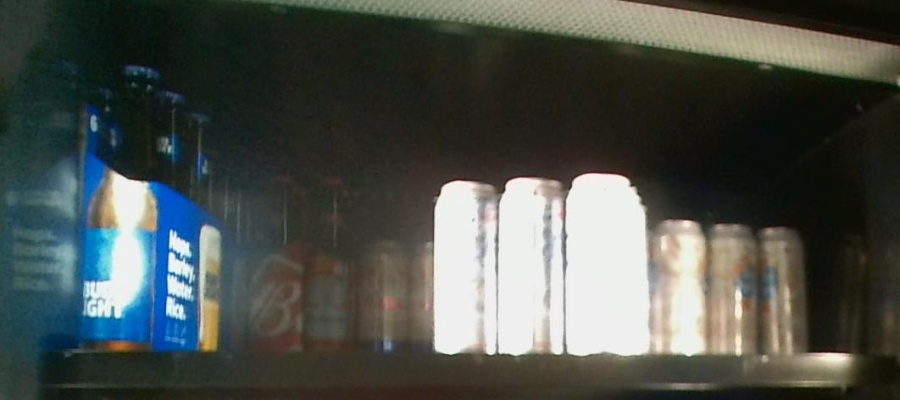bottle: (87, 62, 224, 349), (433, 176, 648, 357), (650, 220, 811, 355), (255, 174, 354, 354), (364, 237, 432, 353)
